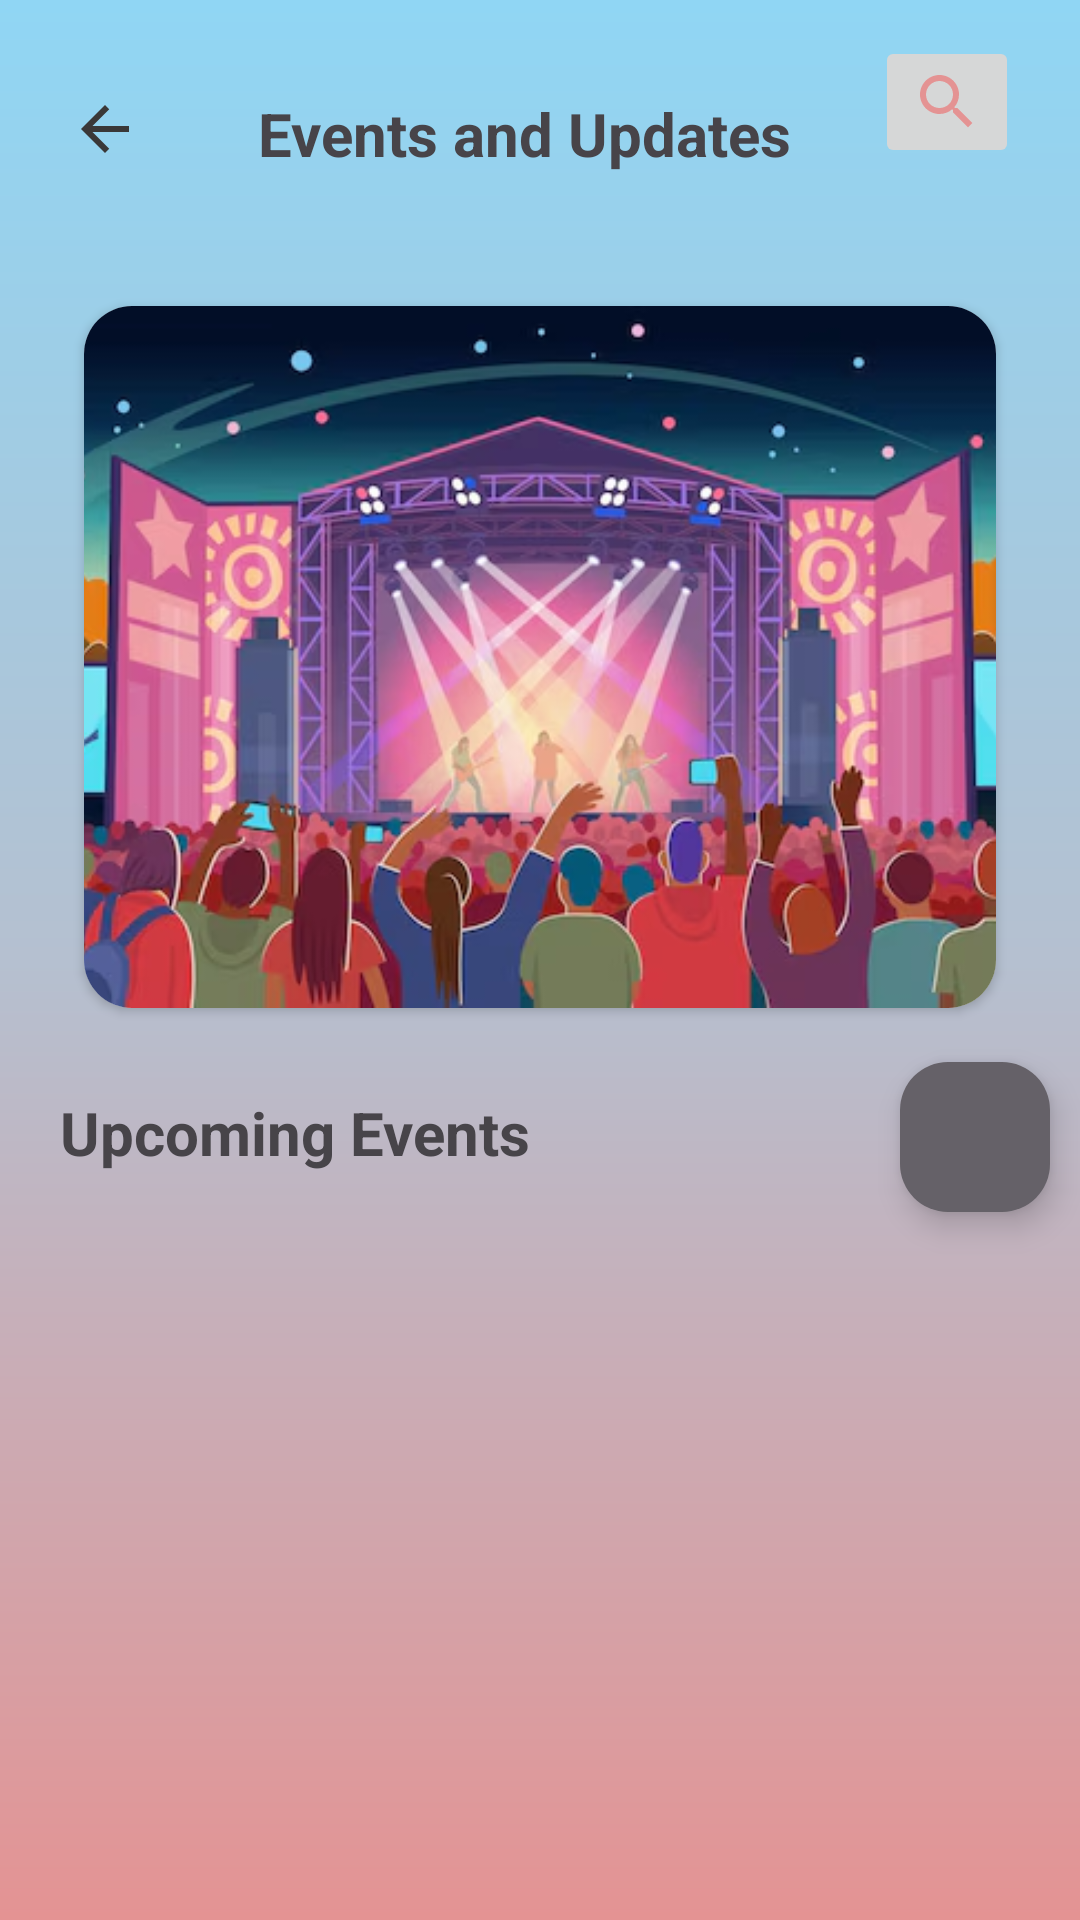

Screen size 1080 × 1920. Icon name, then its box in pixels as (left=x1, top=y1, right=x2, bottom=y2):
arrow back: (left=81, top=105, right=129, bottom=153)
search: (left=887, top=54, right=1007, bottom=150)
